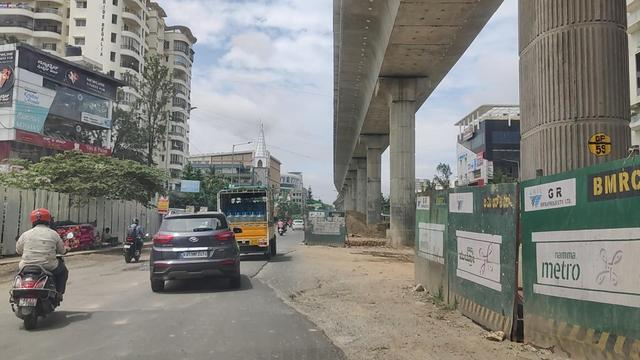LMV: (150, 211, 242, 291), (19, 209, 62, 327)
RoadDamages: (318, 307, 369, 359), (276, 281, 309, 319), (249, 262, 277, 280)
